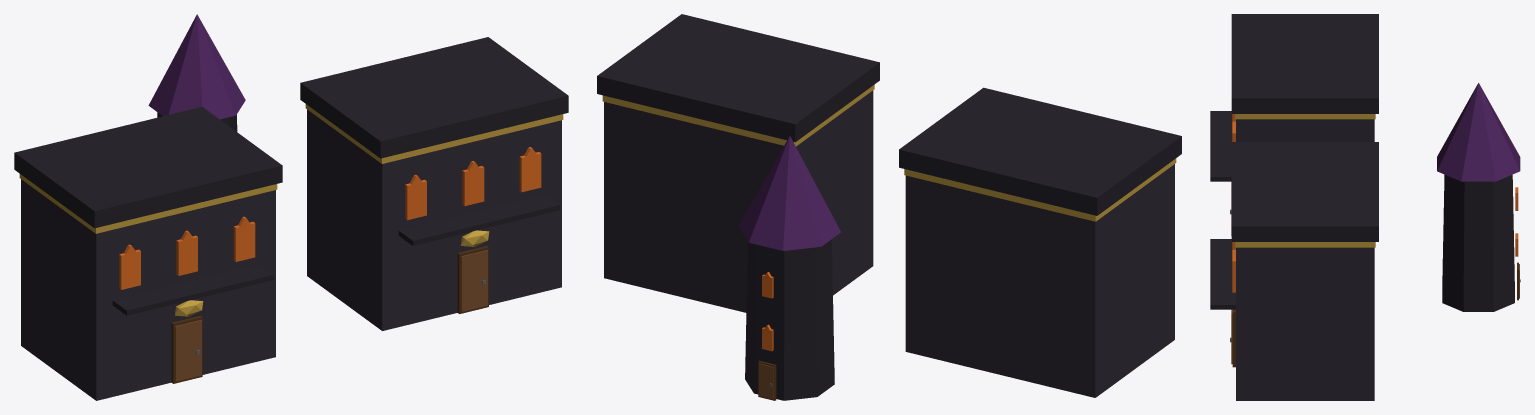
Rendered from demon_row.glb.
3 views of the same model, side by side, from view 1: azimuth 30°, elevation 25°; view 2: azimuth 150°, elevation 25°; view 3: azimuth 270°, elevation 25° (orthographic). The views are drawn at different scales.
Parts seen in each view (by area): view 1: demon_row; view 2: demon_row; view 3: demon_row.
Part boxes in pixels (x1,y1,x2,y2): demon_row: [14, 14, 568, 400]; demon_row: [597, 14, 1181, 400]; demon_row: [1210, 14, 1520, 400].
Bounding box in the file's own units: 5.8 × 2.73 × 3.59.
